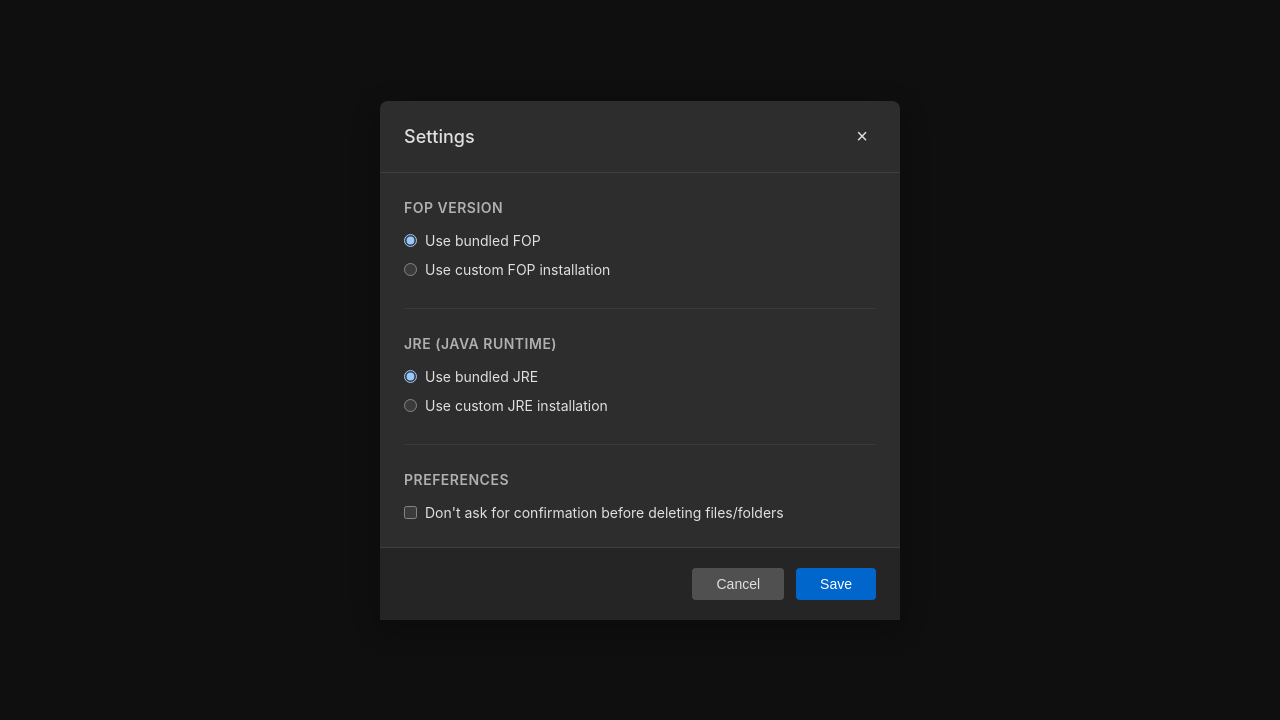
SettingsDialog › requires a directory when switching to a custom JRE
The width and height of the screenshot is (1280, 720).
Expected: the heading "Settings" is shown, left=404, top=122, right=475, bottom=150
Click the radio button labelled "Use custom JRE installation": (410, 405) left=404, top=398, right=417, bottom=412
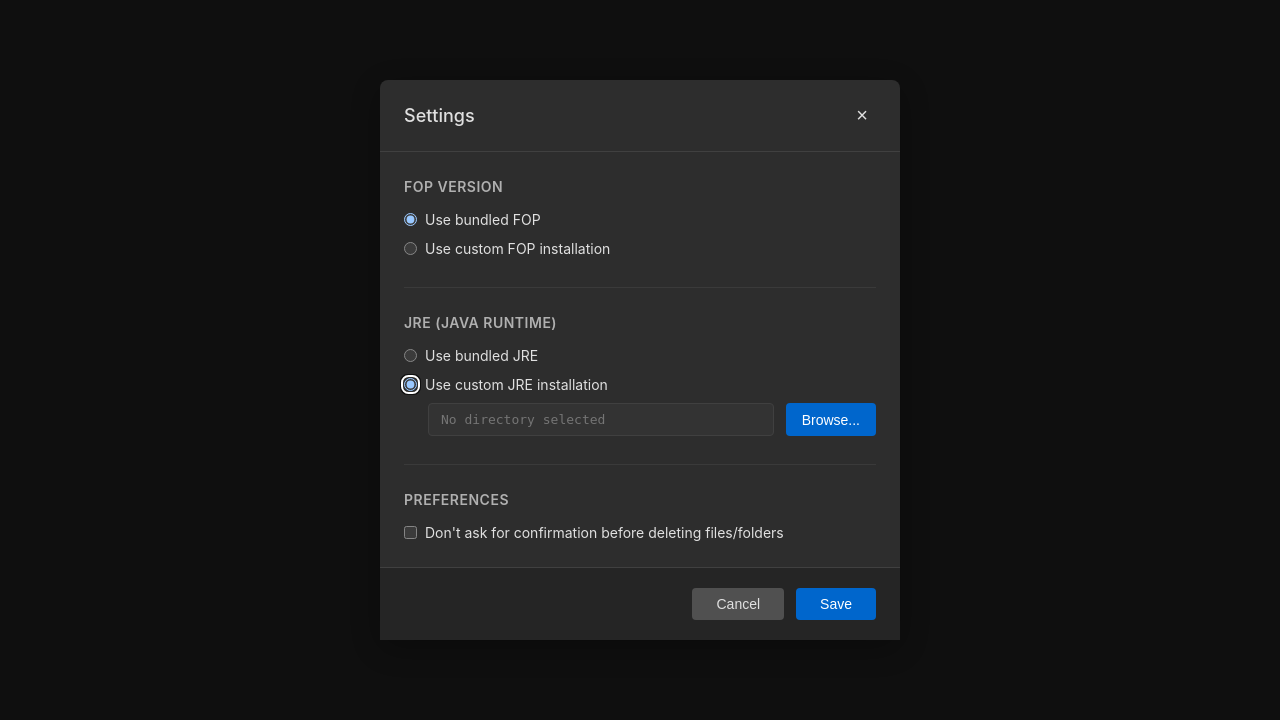
Click the button "Save": (836, 604) left=796, top=588, right=876, bottom=620
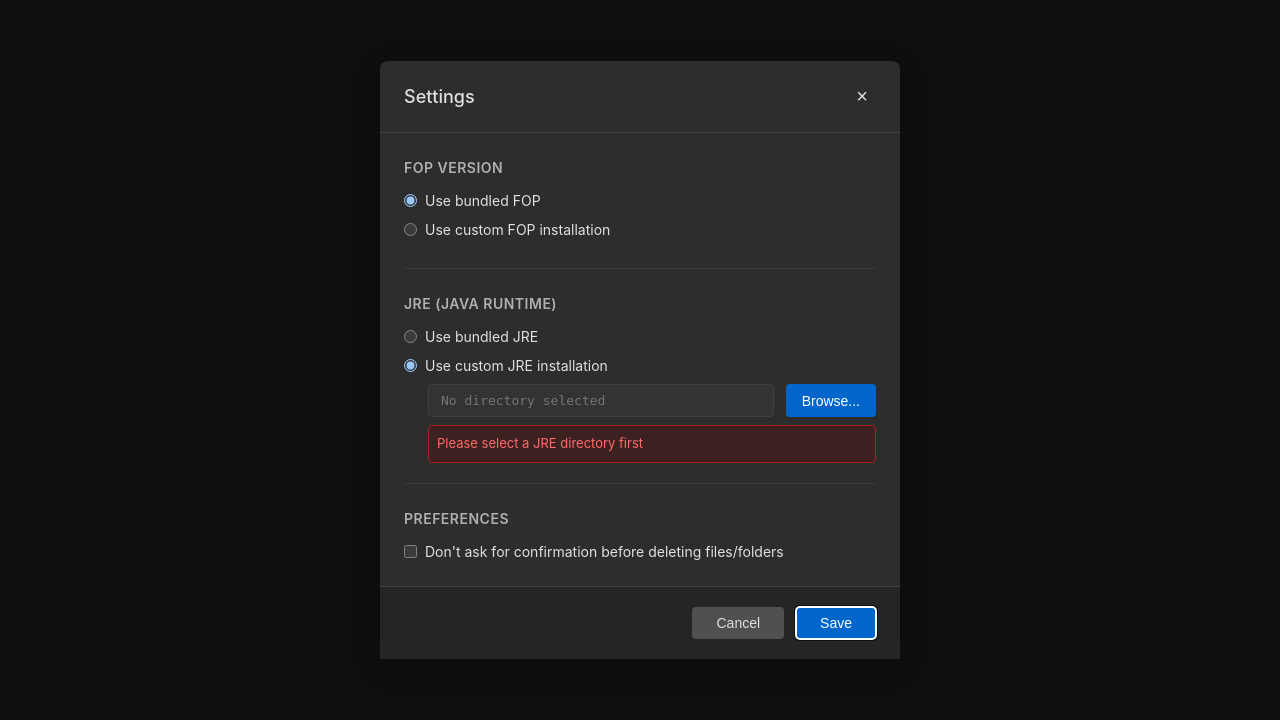
Result: the text "Please select a JRE directory first" is shown at left=428, top=425, right=876, bottom=463
